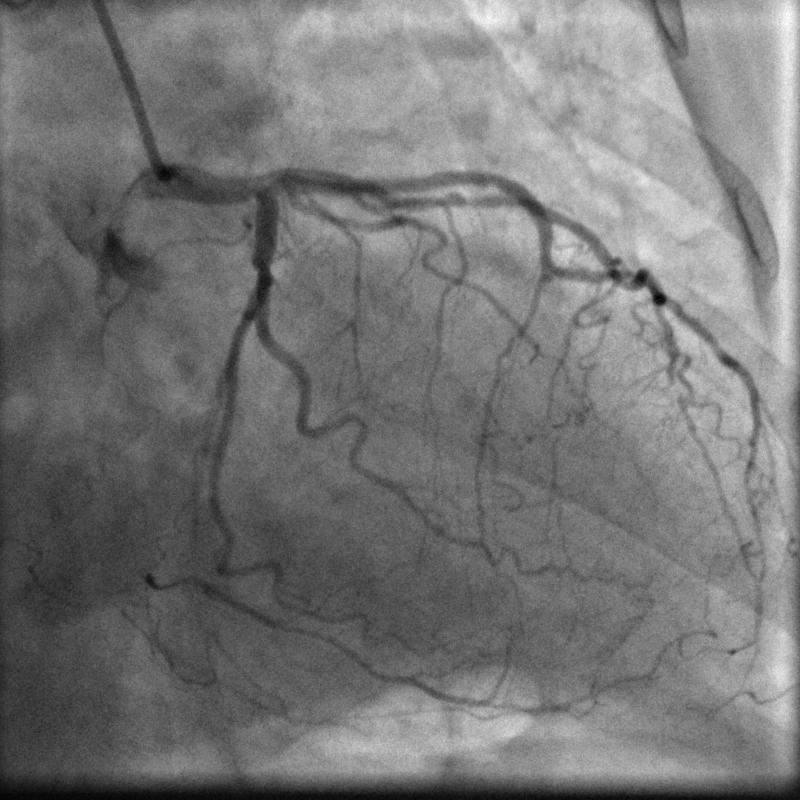Stenosis: (425, 185, 494, 215)
